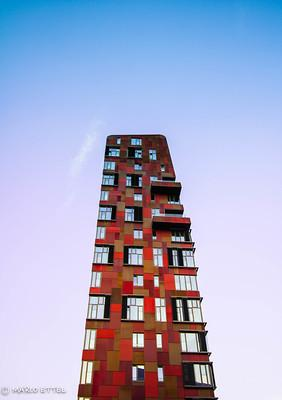building: (74, 130, 221, 400)
